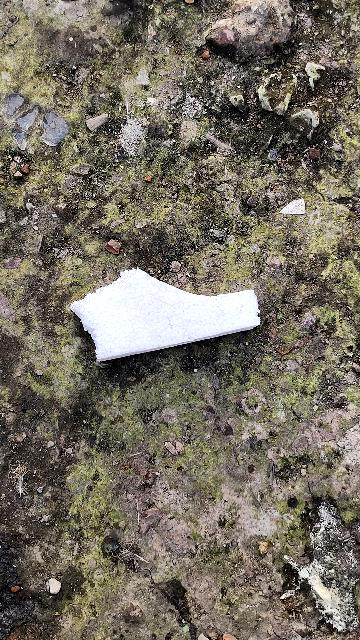cocksheet: (77, 255, 264, 367)
